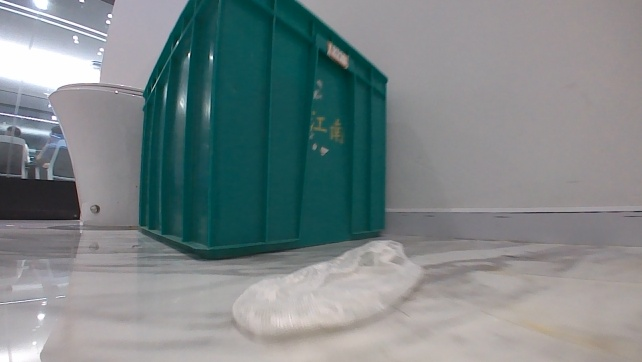socks: (228, 236, 420, 341)
toilet: (46, 79, 148, 230)
